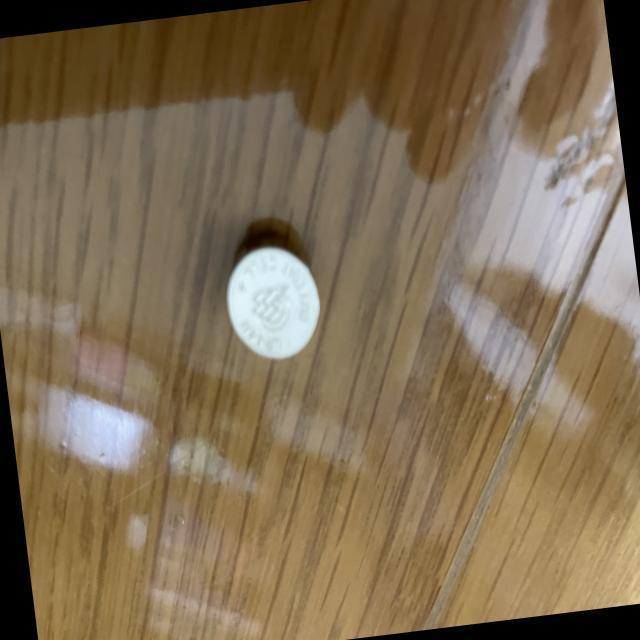COIN: (217, 232, 327, 364)
